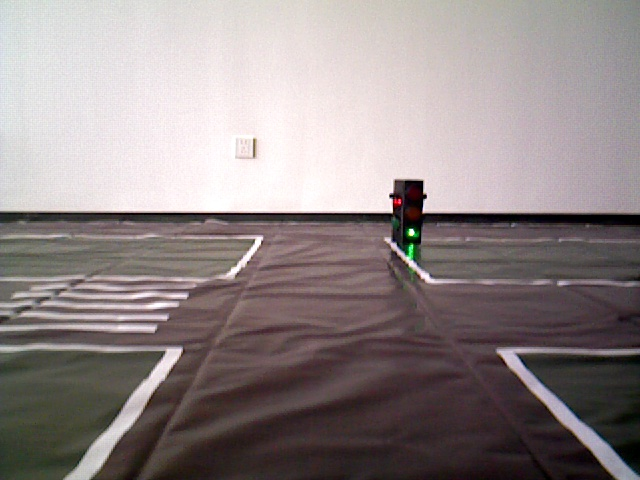green: (392, 177, 423, 247)
